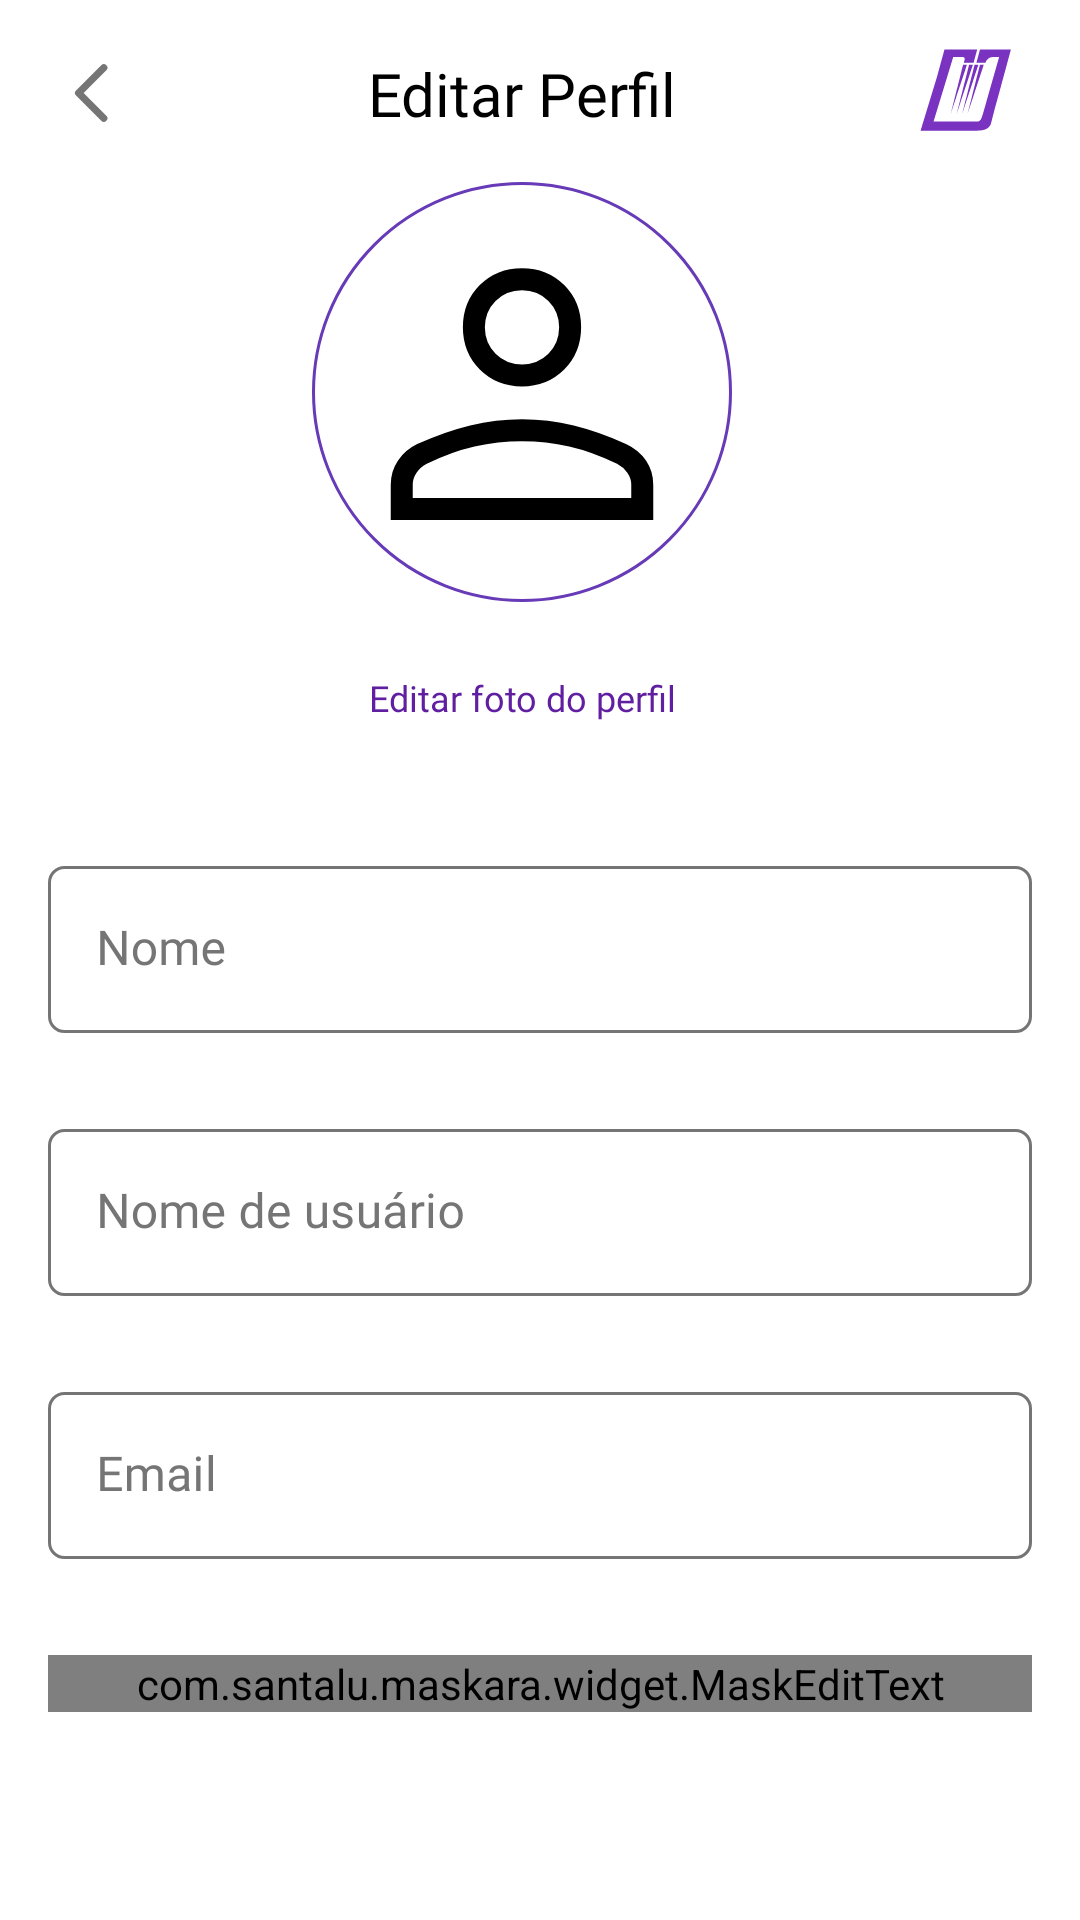

Locate icon controls on the screen. Image size 1080px x 1920px, boxes as (x1, y1, x2, y2).
arrow chevron left: (75, 64, 108, 122)
